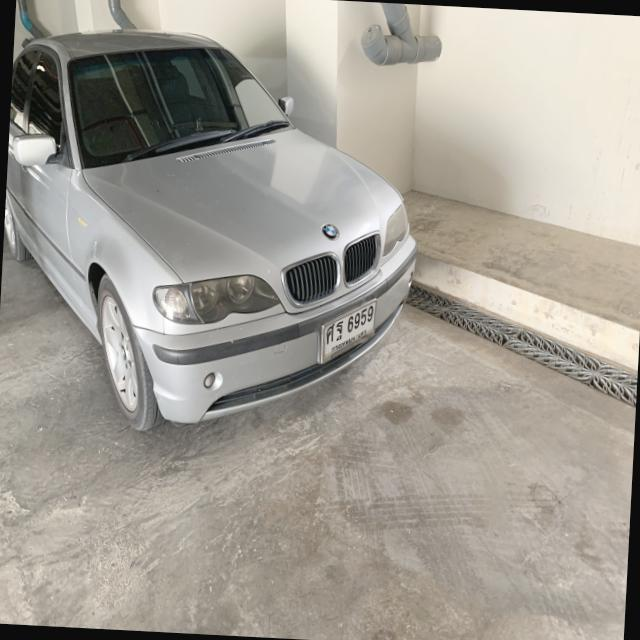license_plate: (318, 293, 380, 368)
